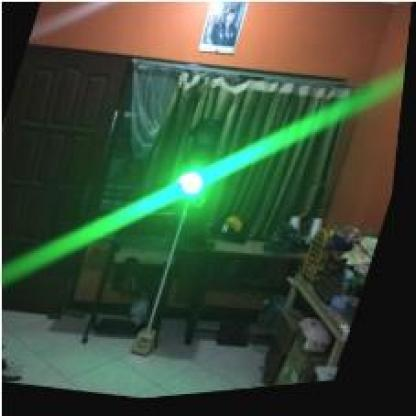green: (174, 118, 229, 206)
